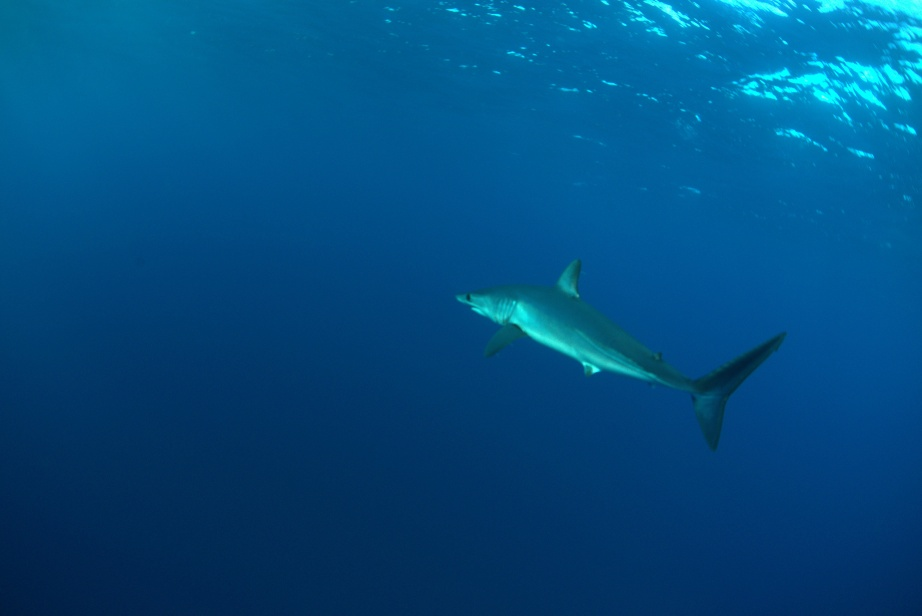Mako: (430, 250, 791, 464)
